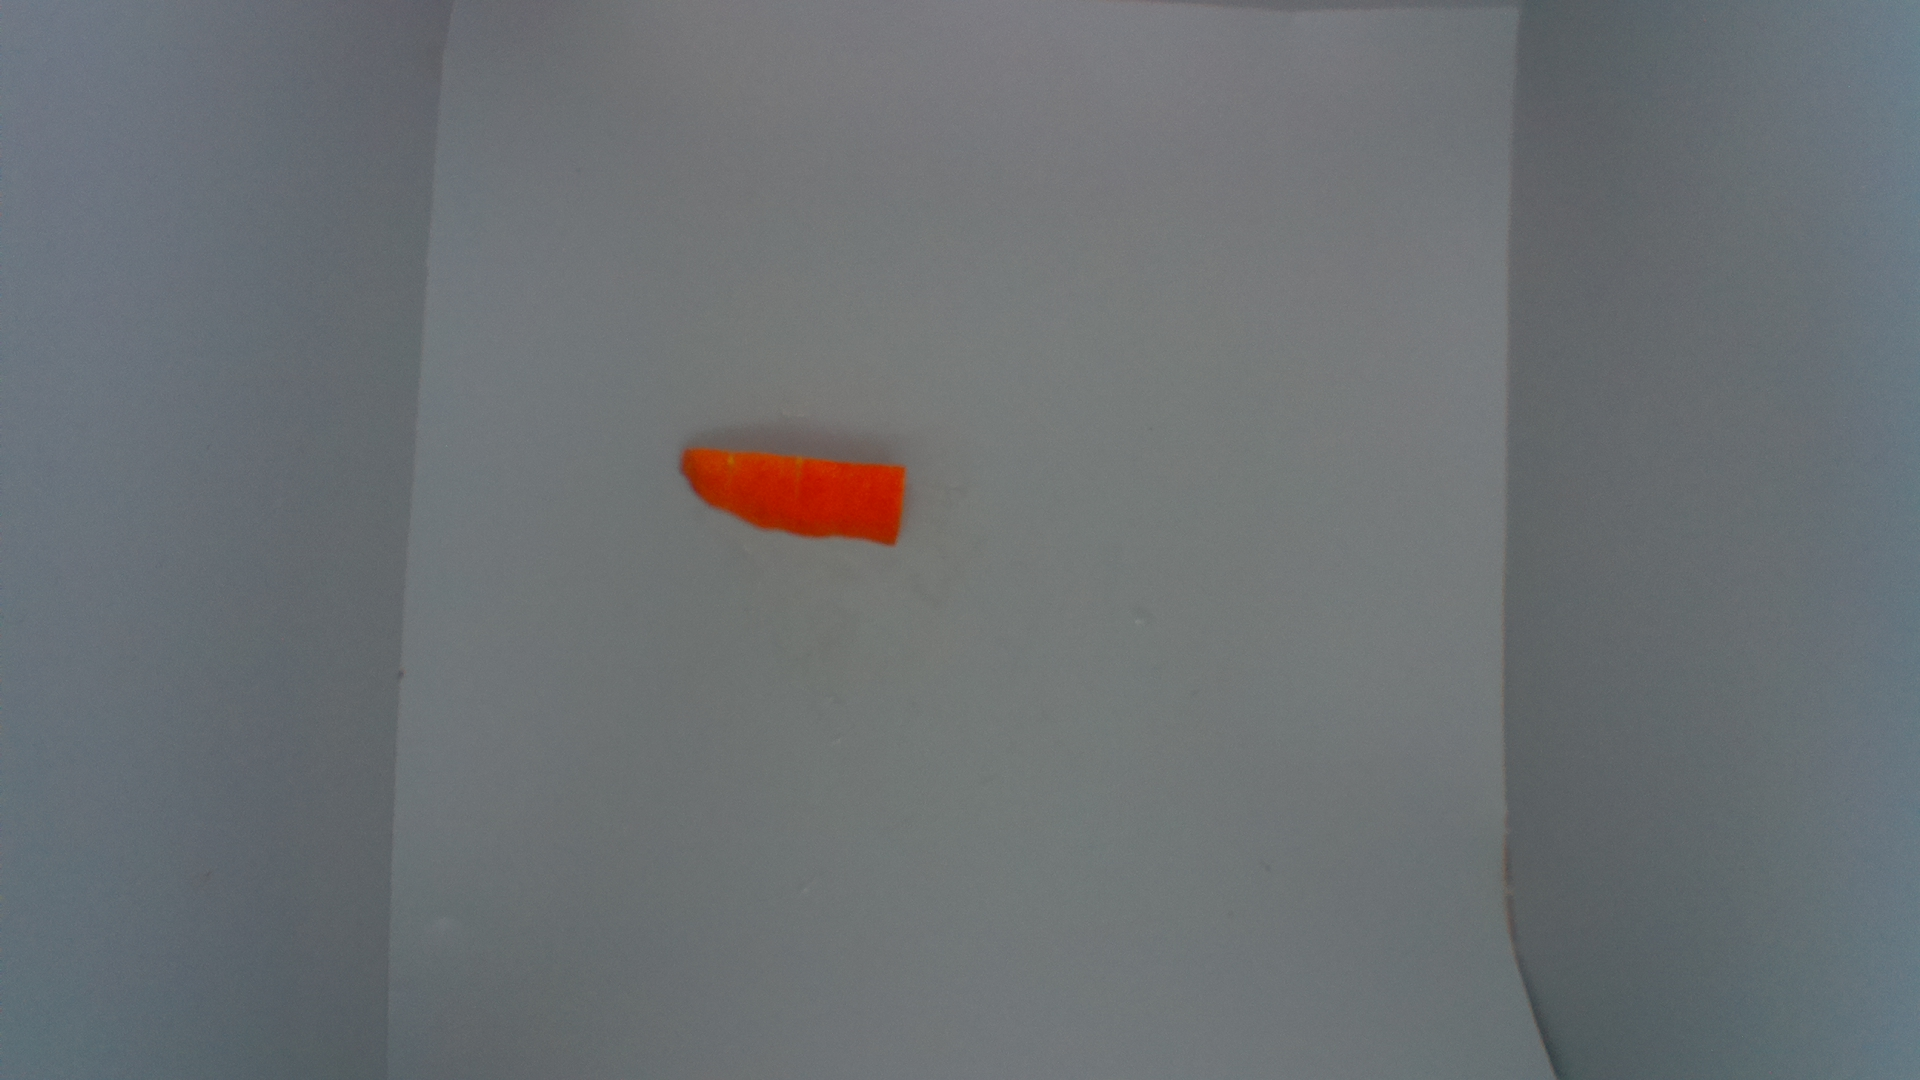carrot: (678, 443, 911, 550)
